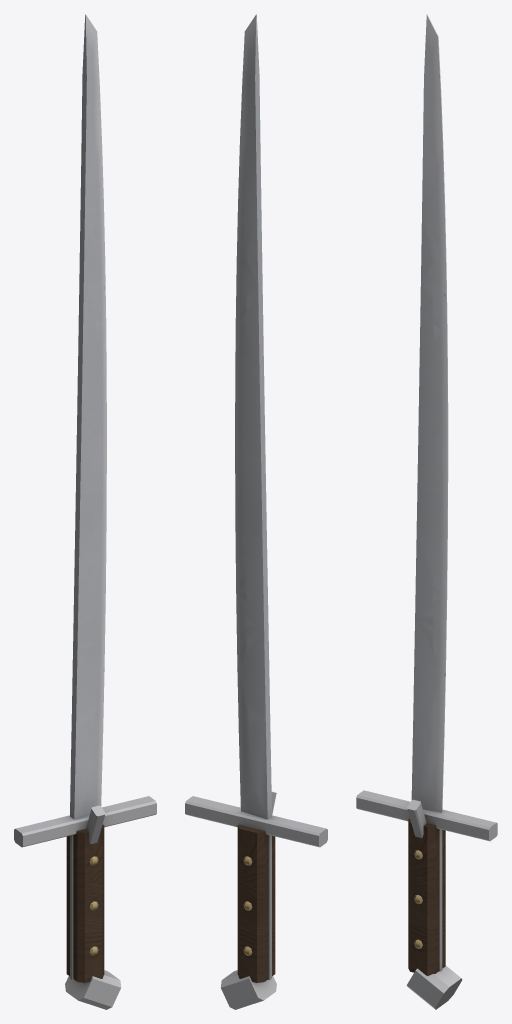
File: messer.glb
The picture shows the model from 3 angles, left to right: view 1: azimuth 30°, elevation 25°; view 2: azimuth 150°, elevation 25°; view 3: azimuth 330°, elevation 25°; orthographic projection.
Visible parts, largest first — view 1: SM_V_messer, SM_V_messer_Faste; view 2: SM_V_messer, SM_V_messer_Faste; view 3: SM_V_messer, SM_V_messer_Faste.
Boxes of the visible parts, box(x1,y1,x2,y2) form: SM_V_messer: box(66, 14, 106, 982); SM_V_messer_Faste: box(14, 796, 156, 1009); SM_V_messer: box(235, 14, 275, 982); SM_V_messer_Faste: box(185, 791, 327, 1009); SM_V_messer: box(408, 14, 448, 975); SM_V_messer_Faste: box(356, 790, 497, 1009).
Bounding box in the file's own units: 0.14 × 0.9943 × 0.0469.
1 material, 1 textured.
